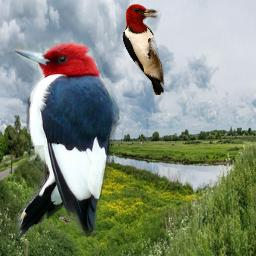Woodpecker: (13, 36, 120, 244), (122, 4, 164, 95)
